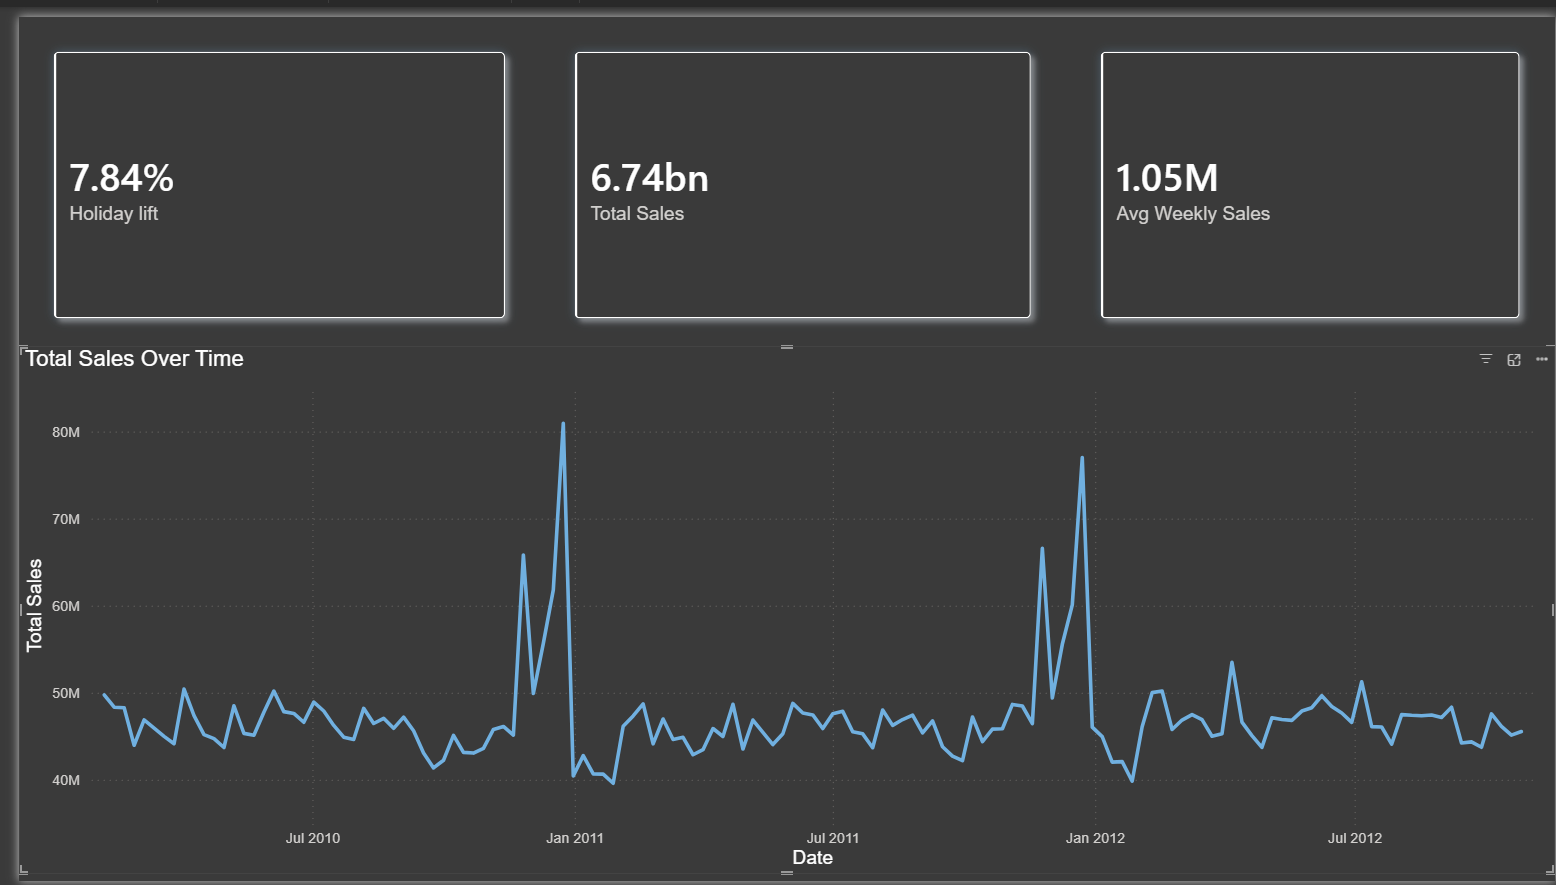

The page's visual inventory and layout, read from the dashboard file:
{"tool":"powerbi","page":{"name":"Page 1","canvas":[1280,720],"ordinal":0},"visuals":[{"type":"cardVisual","fields":{"Data":["Walmart_clean.Holiday lift"]},"box":[0,0,434.2,280],"z":0},{"type":"cardVisual","fields":{"Data":["Walmart_clean.Total Sales"]},"box":[434.2,0,438.3,280],"z":1000},{"type":"cardVisual","fields":{"Data":["Walmart_clean.Avg Weekly Sales"]},"box":[872.5,0,407.5,280],"z":2000},{"type":"lineChart","fields":{"Y":["Walmart_clean.Total Sales"],"Category":["Walmart_clean.Date.Изменение.Иерархия дат.Год","Walmart_clean.Date.Изменение.Иерархия дат.Месяц","Walmart_clean.Date.Изменение.Иерархия дат.День"]},"box":[0,280,1280,440],"z":3000}]}

Visuals, with their boxes in screenshot pixels (x1, y1, x2, y2), scaled from the page's 1280x720 canvas onto the 1556x885 screenshot:
cardVisual - Walmart_clean.Holiday lift: pyautogui.locateOnScreen(0, 0, 528, 344)
cardVisual - Walmart_clean.Total Sales: pyautogui.locateOnScreen(528, 0, 1061, 344)
cardVisual - Walmart_clean.Avg Weekly Sales: pyautogui.locateOnScreen(1061, 0, 1555, 344)
lineChart - Walmart_clean.Total Sales x Walmart_clean.Date.Изменение.Иерархия дат.Год: pyautogui.locateOnScreen(0, 344, 1555, 884)
